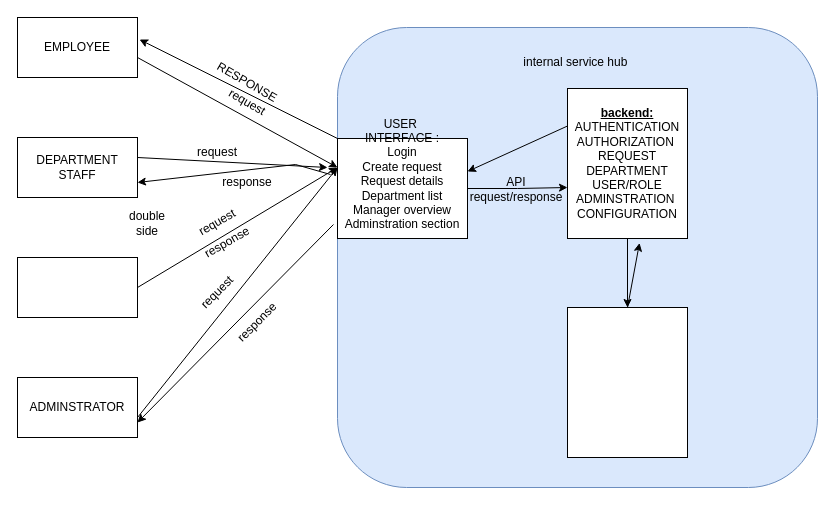
The diagram is 835 pixels wide and 505 high, and some of its shapes have lost their labels. Each missing label, with the box of its shape:
DATABASE: Users Departments Requests Comments History: (566, 306, 688, 458)
MANAGERS: (16, 256, 138, 318)
